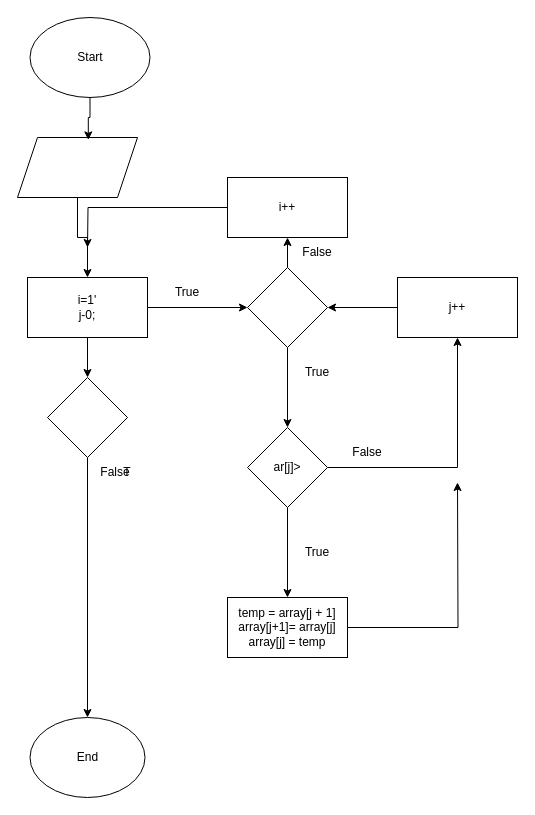
This 535x815 diagram has some shape labels left out. The centre of each missing label's shape, as x and y in pixels:
i<n: point (87, 417)
j<N-2: point (287, 307)
Read Array Numbers from the user: point (77, 167)
